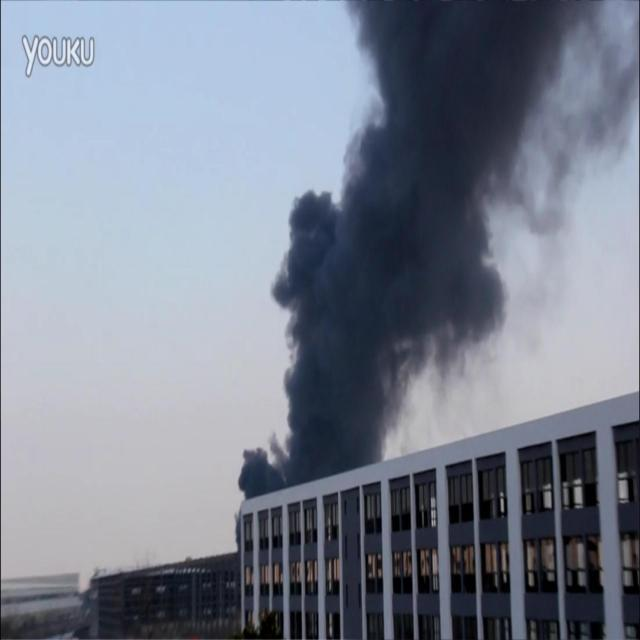Smoke: (233, 0, 640, 552)
